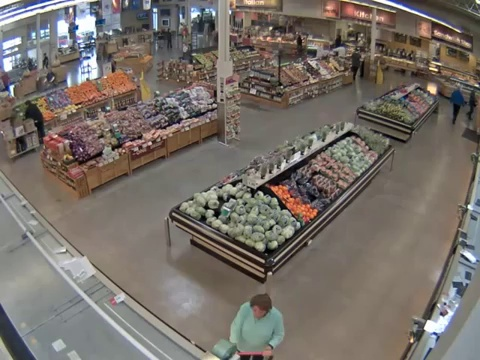face: (250, 305, 267, 320)
